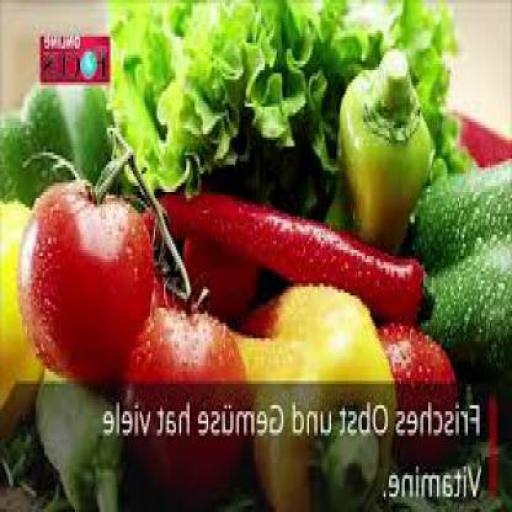biodegradable: (232, 284, 402, 509), (149, 186, 425, 317), (20, 174, 157, 376), (121, 302, 251, 504), (325, 49, 434, 259), (411, 155, 511, 379), (108, 94, 346, 183), (107, 46, 367, 116), (2, 76, 122, 214), (402, 0, 482, 180), (108, 0, 406, 46), (112, 132, 192, 302), (377, 320, 461, 481), (37, 369, 130, 509), (2, 195, 46, 457), (382, 436, 510, 510), (186, 238, 256, 326), (2, 430, 50, 494), (93, 150, 133, 192)
